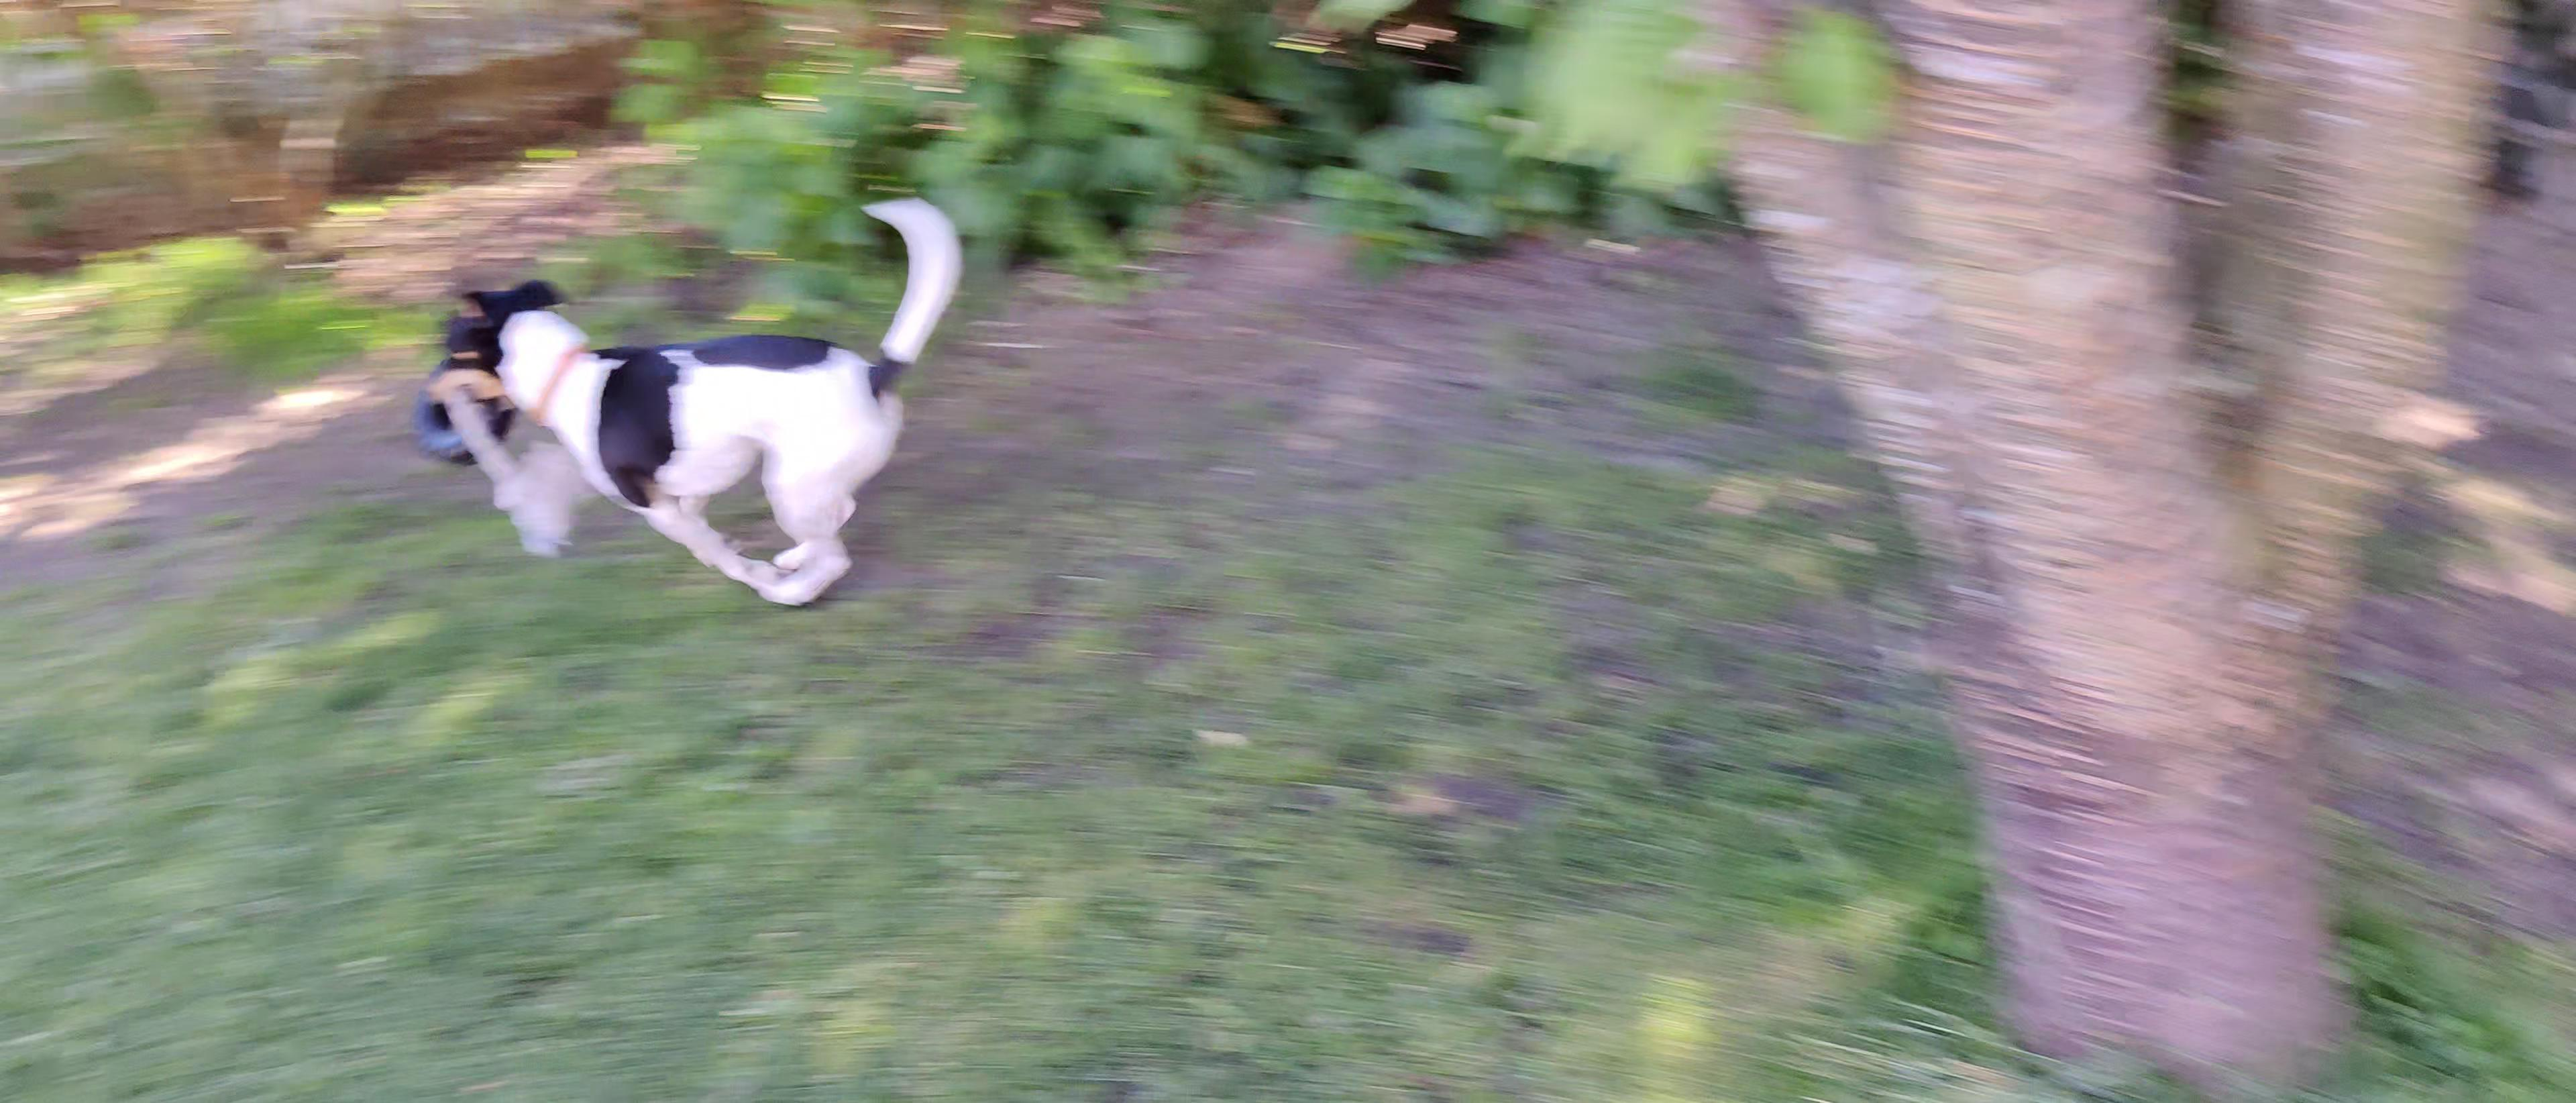Dog: (412, 186, 987, 611)
